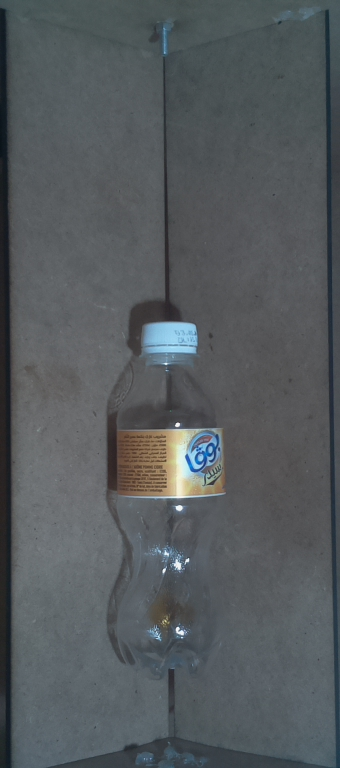Bouteille_0.3L: (103, 309, 238, 689)
